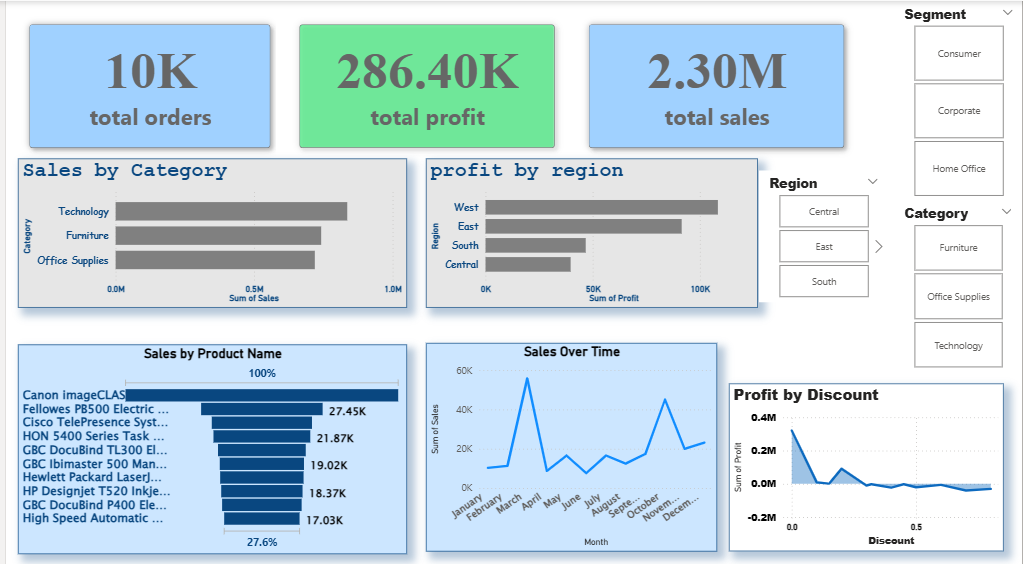

The dashboard page shown, as its layout file describes it:
{"tool":"powerbi","page":{"name":"Page 1","canvas":[1280,720],"ordinal":0},"visuals":[{"type":"cardVisual","title":"to","fields":{"Data":["Sample - Superstore.total orders"]},"box":[0,0,362,214],"z":0},{"type":"cardVisual","title":"to","fields":{"Data":["Sample - Superstore.total profit"]},"box":[340,0,380,214],"z":1000},{"type":"cardVisual","title":"to","fields":{"Data":["Sample - Superstore.total sales"]},"box":[704,0,380,214],"z":2000},{"type":"barChart","title":" Sales by Category","fields":{"Category":["Sample - Superstore.Category"],"Y":["Sum(Sample - Superstore.Sales)"]},"box":[16,198,490,188],"z":3000},{"type":"barChart","title":"profit by region","fields":{"Category":["Sample - Superstore.Region"],"Y":["Sum(Sample - Superstore.Profit)"]},"box":[530,198,418,188],"z":4000},{"type":"funnel","title":" Sales by Product Name","fields":{"Category":["Sample - Superstore.Product Name"],"Y":["Sum(Sample - Superstore.Sales)"]},"box":[16,432,490,264],"z":5000},{"type":"lineChart","title":"Sales Over Time","fields":{"Category":["Sample - Superstore.Order Date.Variation.Date Hierarchy.Month"],"Y":["Sum(Sample - Superstore.Sales)"]},"box":[529.1,430.9,366.6,262.7],"z":6000},{"type":"lineChart","title":" Profit by Discount","fields":{"Category":["Sample - Superstore.Discount"],"Y":["Sum(Sample - Superstore.Profit)"]},"box":[910.9,481.9,345.8,211.7],"z":7000},{"type":"slicer","fields":{"Values":["Sample - Superstore.Segment"]},"box":[1118,0,162,252],"z":8000},{"type":"slicer","fields":{"Values":["Sample - Superstore.Category"]},"box":[1118.7,251.3,160.6,217.3],"z":9000},{"type":"slicer","fields":{"Values":["Sample - Superstore.Region"]},"box":[948,214,162,166],"z":10000}]}

Visuals, with their boxes in screenshot pixels (x1, y1, x2, y2), scaled from the page's 1280x720 canvas onto the 1023x564 screenshot:
"to" cardVisual: Rect(0, 0, 289, 168)
"to" cardVisual: Rect(272, 0, 575, 168)
"to" cardVisual: Rect(563, 0, 866, 168)
" Sales by Category" barChart: Rect(13, 155, 404, 302)
"profit by region" barChart: Rect(424, 155, 758, 302)
" Sales by Product Name" funnel: Rect(13, 338, 404, 545)
"Sales Over Time" lineChart: Rect(423, 338, 716, 543)
" Profit by Discount" lineChart: Rect(728, 377, 1004, 543)
slicer - Sample - Superstore.Segment: Rect(894, 0, 1022, 197)
slicer - Sample - Superstore.Category: Rect(894, 197, 1022, 367)
slicer - Sample - Superstore.Region: Rect(758, 168, 887, 298)
